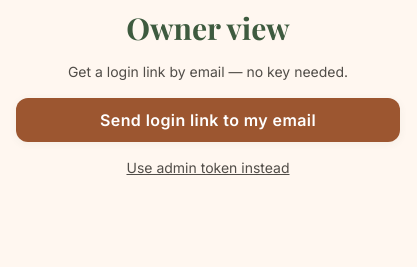
Test: owner login and visit switching › keeps token sign-in available during a pending email request
The width and height of the screenshot is (417, 267).
Later steps or results of the test are not shown.
Click the button "Send login link to my email".
click(208, 120)  # box [16,98,400,142]
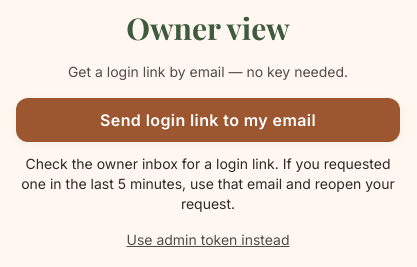
Expected: the button "Use admin token instead" is enabled, [126,230,290,250]
Result: the message shows "Check the owner inbox" at [21,155,395,212]
